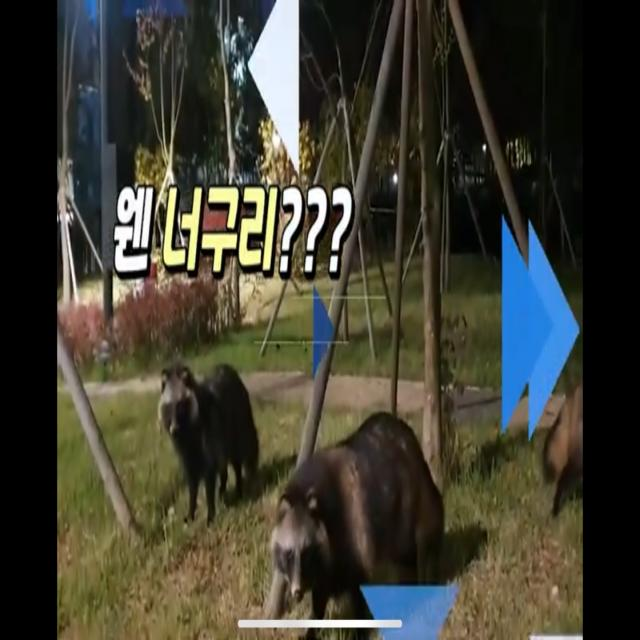racoon: (270, 416, 448, 608), (153, 347, 259, 511)
